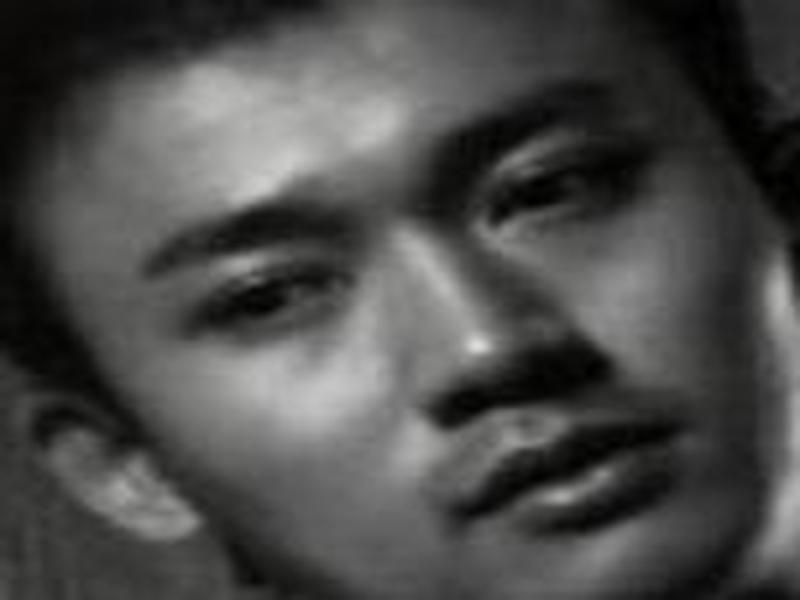without_mask: (33, 18, 800, 589)
